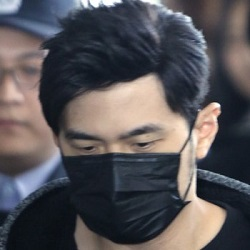mask: (55, 145, 199, 242)
